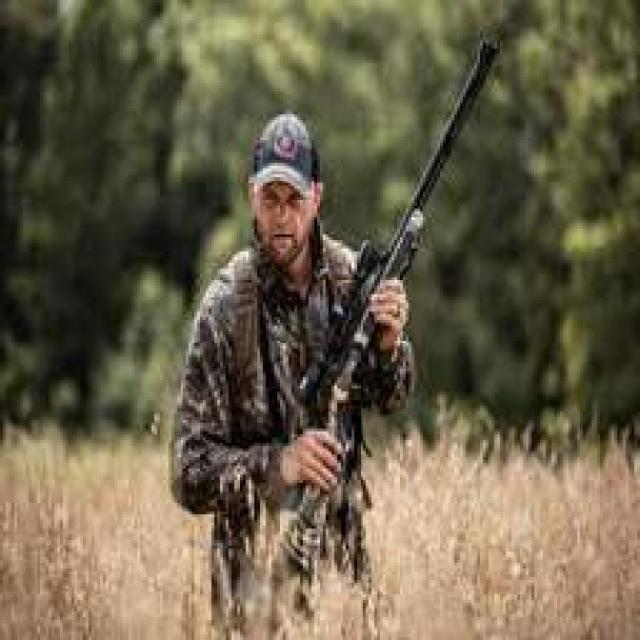Rifle: (302, 27, 507, 567)
